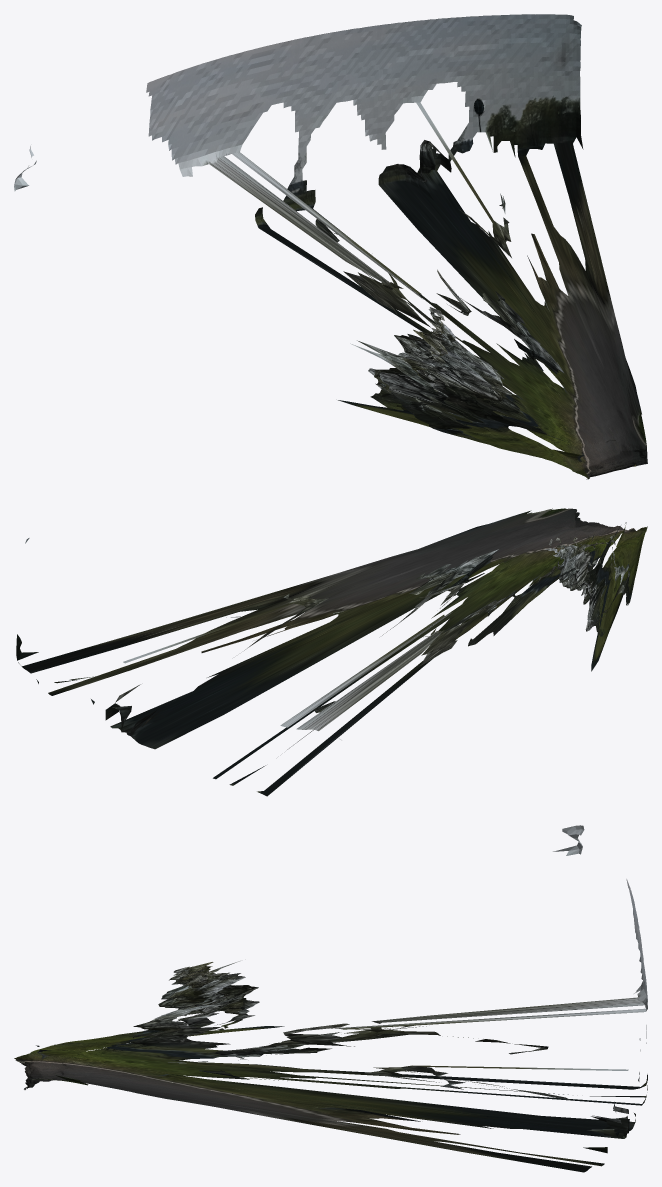
3 views of the same model, one above another, from view 1: azimuth 30°, elevation 25°; view 2: azimuth 150°, elevation 25°; view 3: azimuth 270°, elevation 25° (orthographic). The views are drawn at different scales.
Parts seen in each view (by area): view 1: defaultobject; view 2: defaultobject; view 3: defaultobject.
Boxes of the visible parts, x1,y1,x2,y2 form: defaultobject: (14, 14, 647, 479); defaultobject: (16, 508, 647, 796); defaultobject: (14, 825, 647, 1172).
Size of the model in its own units: 40.64 by 12.44 by 44.86.
1 material, 1 textured.
